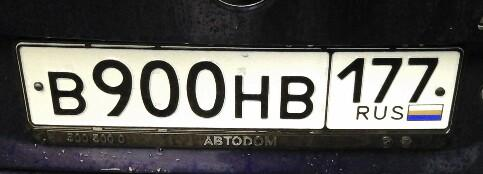license-plateSW: (19, 45, 467, 132)
